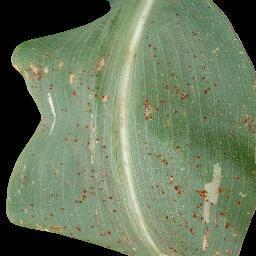Corn_Common_Rust: (136, 12, 256, 256), (5, 54, 114, 241), (115, 199, 136, 256)
